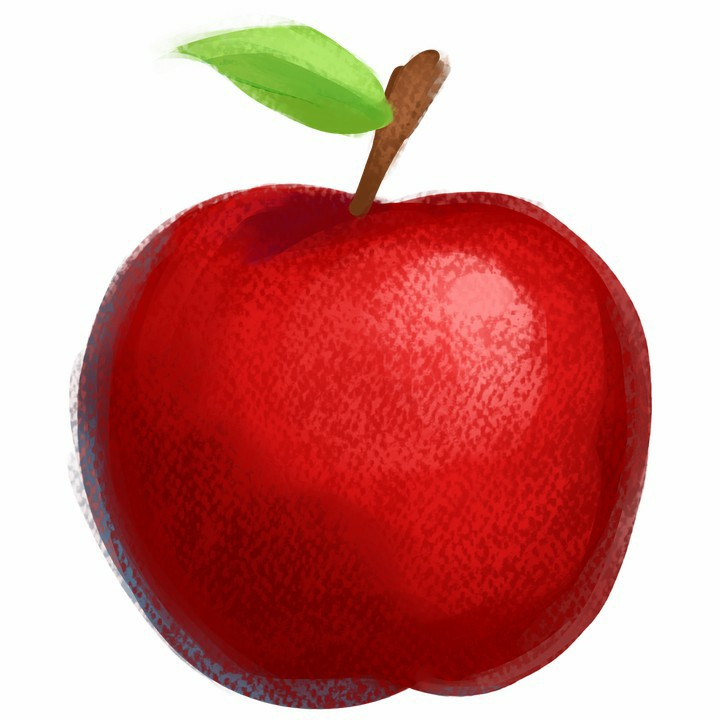fresh_apple: (73, 174, 653, 703)
